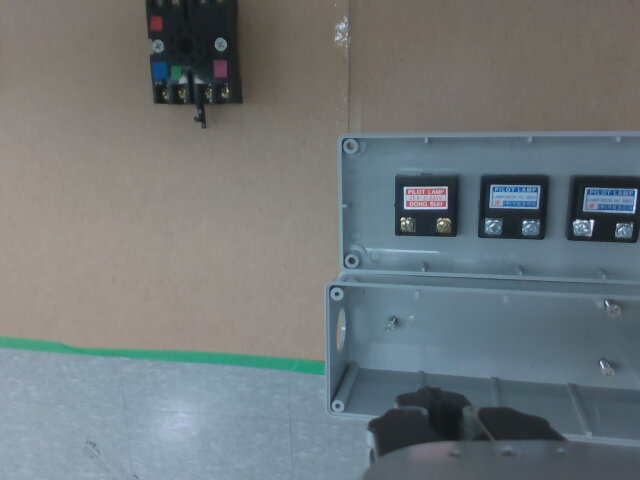L1(1): (399, 216, 415, 231)
L1(2): (434, 218, 450, 232)
L2(1): (484, 218, 502, 235)
L2(2): (522, 219, 540, 236)
L3(1): (575, 219, 593, 236)
L3(2): (616, 221, 632, 238)
